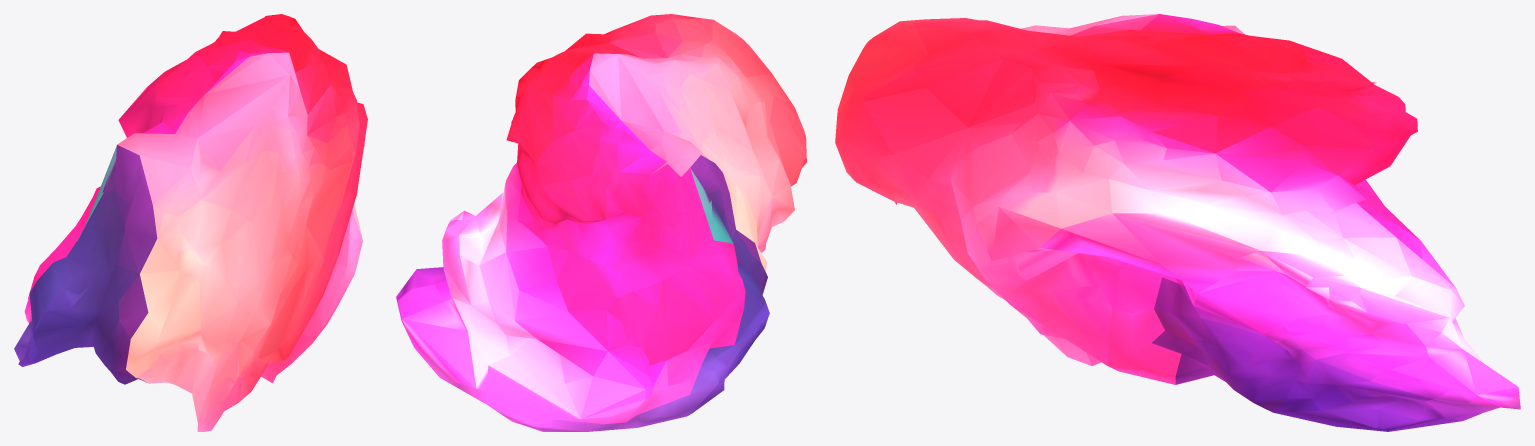
The model's file is neon-organisms-3-Neon-3.glb.
3 views of the same model, side by side, from view 1: azimuth 30°, elevation 25°; view 2: azimuth 150°, elevation 25°; view 3: azimuth 270°, elevation 25° (orthographic). The views are drawn at different scales.
Parts seen in each view (by area): view 1: Polygon Reduction; view 2: Polygon Reduction; view 3: Polygon Reduction.
Boxes of the visible parts, bbox=[...] form: Polygon Reduction: bbox=[14, 14, 367, 431]; Polygon Reduction: bbox=[396, 14, 806, 431]; Polygon Reduction: bbox=[835, 14, 1520, 431].
Bounding box in the file's own units: 10.74 × 9.65 × 13.98.
1 material, 1 textured.
